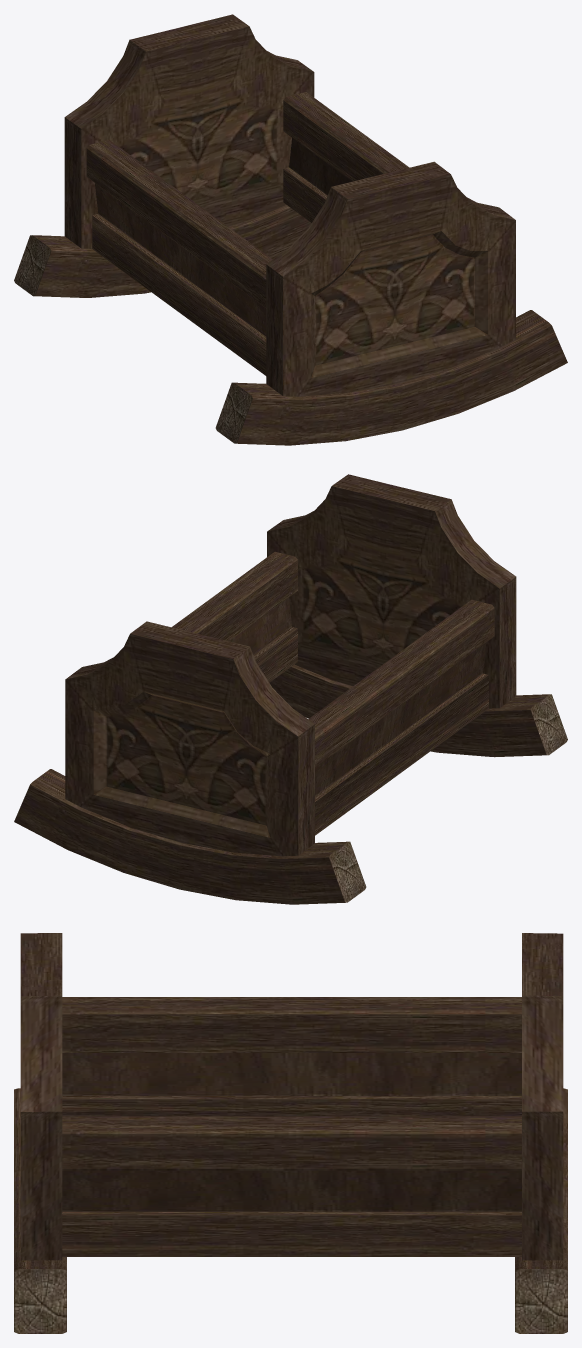
Rendered from eso_gu2_woodfurniture33-transformed.glb.
The picture shows the model from 3 angles, top to bottom: view 1: azimuth 30°, elevation 25°; view 2: azimuth 150°, elevation 25°; view 3: azimuth 270°, elevation 25°; orthographic projection. The views are drawn at different scales.
Parts seen in each view (by area): view 1: default; view 2: default; view 3: default.
Boxes of the visible parts, left/top/right/bottom form: default: left=14, top=14, right=567, bottom=445; default: left=14, top=474, right=567, bottom=904; default: left=14, top=933, right=567, bottom=1333.
Size of the model in its own units: 1.3 by 0.908 by 1.51.
Materials: 1 (1 with a texture image).
